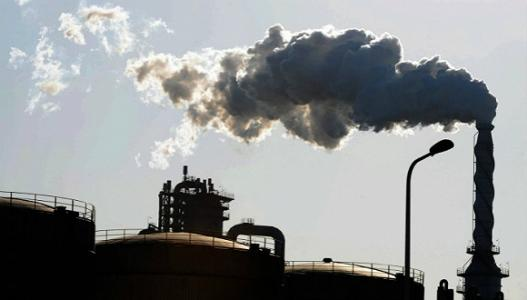dust: (201, 24, 509, 147)
